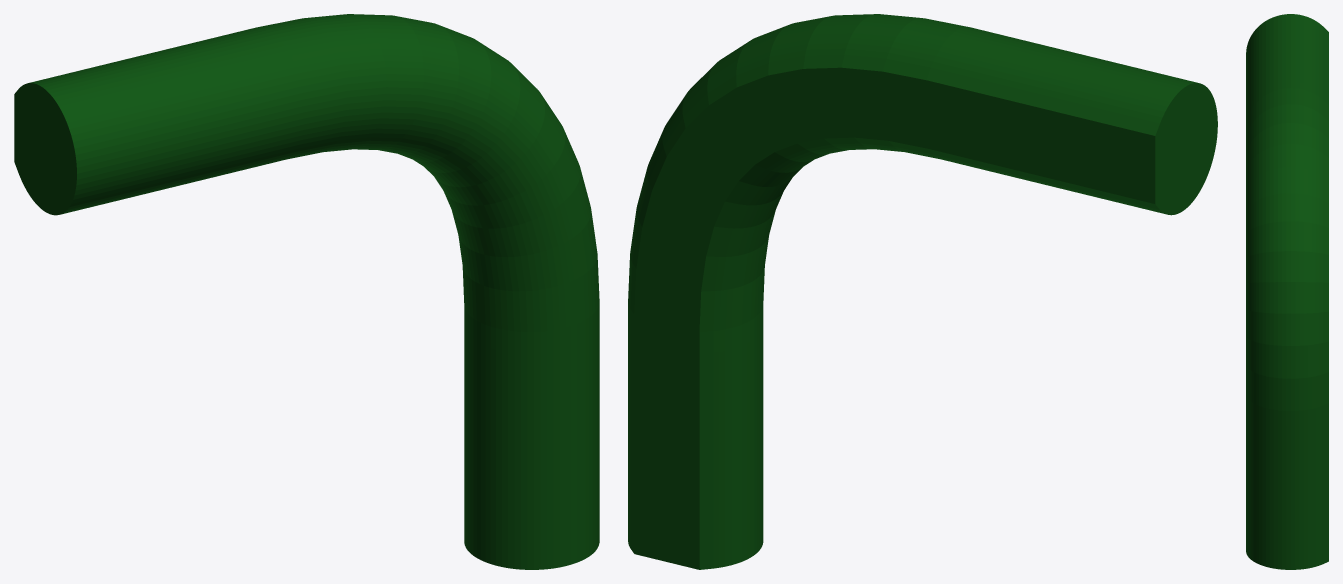
File: stem_1B_90_L.glb
3 views of the same model, side by side, from view 1: azimuth 30°, elevation 25°; view 2: azimuth 150°, elevation 25°; view 3: azimuth 270°, elevation 25° (orthographic). The views are drawn at different scales.
Visible parts, largest first — view 1: stem_1B_90L; view 2: stem_1B_90L; view 3: stem_1B_90L.
Part boxes in pixels (bbox=[...]): stem_1B_90L: bbox=[14, 14, 599, 569]; stem_1B_90L: bbox=[628, 14, 1217, 569]; stem_1B_90L: bbox=[1246, 14, 1328, 569].
Bounding box in the file's own units: 0.0336 × 0.0336 × 0.00666.
